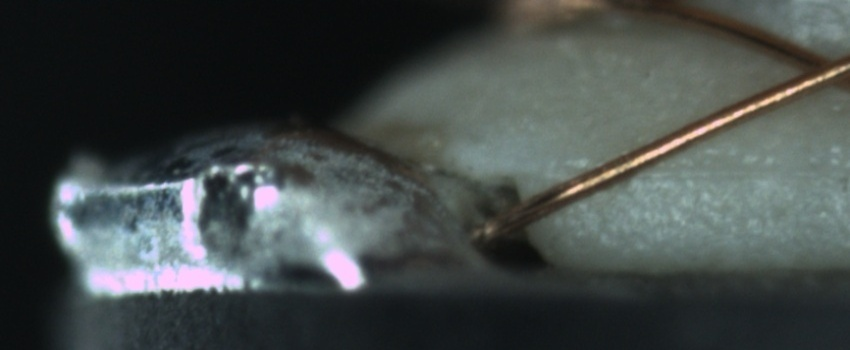CL: (772, 38, 849, 100)
DL: (568, 138, 846, 204)
